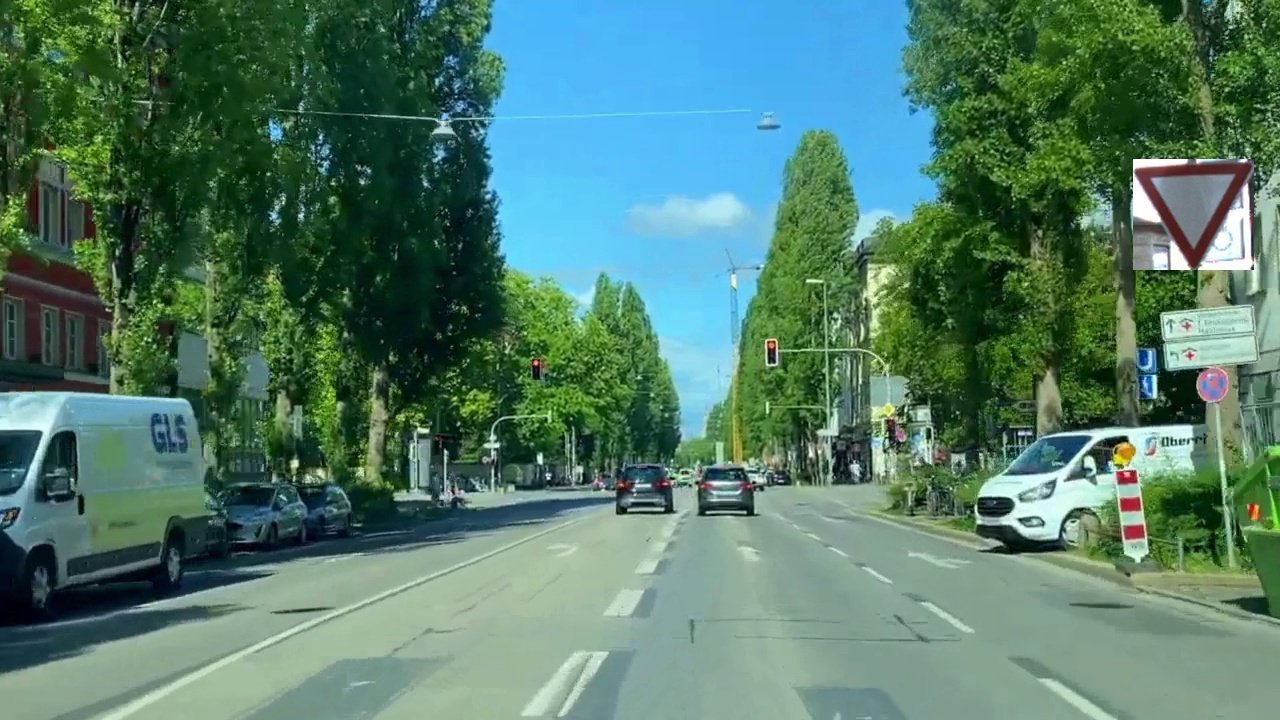Yield: (1133, 159, 1254, 270)
